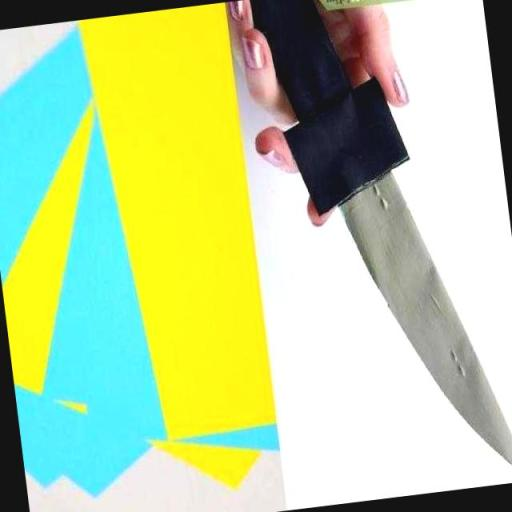knife: (249, 0, 512, 506)
